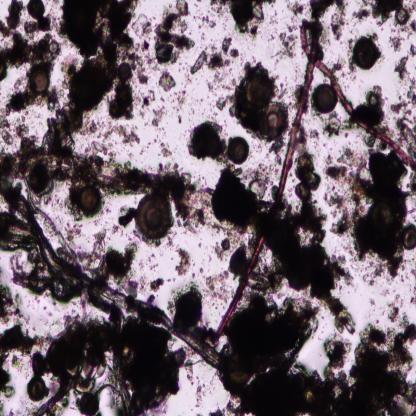Background material: (229, 291, 416, 416), (0, 143, 245, 236), (45, 0, 143, 151), (276, 198, 357, 334), (112, 314, 188, 416), (354, 149, 410, 276), (49, 312, 112, 393), (214, 164, 268, 233), (0, 32, 60, 82), (10, 251, 69, 301), (93, 238, 142, 294), (154, 0, 194, 68), (265, 0, 304, 65), (322, 166, 356, 237), (78, 120, 142, 157), (389, 77, 416, 158), (186, 115, 232, 162), (294, 124, 321, 204), (0, 329, 51, 368), (247, 249, 287, 298), (244, 144, 282, 194), (234, 79, 263, 139), (172, 282, 205, 334), (230, 0, 275, 36), (354, 84, 387, 126), (0, 285, 31, 329), (327, 251, 357, 291), (6, 87, 51, 113), (108, 82, 138, 121), (362, 0, 404, 27), (138, 87, 166, 127), (142, 248, 166, 293), (195, 0, 230, 30), (204, 273, 234, 306), (308, 0, 349, 23), (324, 331, 350, 367), (386, 292, 408, 330), (205, 68, 236, 94), (15, 115, 38, 150), (125, 52, 149, 85), (336, 141, 364, 168), (328, 7, 348, 42), (388, 24, 413, 52), (0, 109, 18, 147), (4, 0, 26, 31), (192, 376, 212, 410), (130, 14, 155, 41), (23, 12, 51, 36), (362, 257, 384, 287), (62, 219, 84, 249), (314, 20, 330, 60), (44, 12, 68, 38), (58, 52, 77, 84), (0, 400, 37, 416), (174, 243, 191, 277), (322, 112, 344, 136), (116, 204, 136, 228), (12, 355, 32, 378), (393, 52, 408, 82), (0, 369, 16, 397), (91, 226, 109, 250), (214, 236, 232, 260), (170, 87, 188, 111), (349, 5, 371, 24), (340, 235, 356, 260), (158, 70, 176, 92), (184, 357, 198, 385), (203, 51, 226, 68), (178, 61, 192, 88), (347, 37, 356, 73), (408, 266, 416, 306), (216, 92, 236, 108), (357, 132, 376, 147), (12, 75, 30, 90), (378, 124, 396, 139), (195, 326, 215, 339), (132, 40, 150, 54), (246, 56, 265, 69), (290, 83, 303, 100), (0, 20, 14, 35), (222, 35, 232, 56), (157, 142, 171, 157), (331, 55, 343, 72), (146, 57, 160, 71), (407, 176, 416, 197), (339, 117, 352, 131), (400, 265, 410, 283), (209, 405, 225, 416), (294, 66, 304, 82), (376, 139, 388, 152), (309, 128, 320, 142), (158, 163, 179, 170), (324, 154, 336, 166), (110, 223, 122, 235), (227, 48, 239, 59), (405, 0, 416, 12), (166, 235, 174, 251), (378, 287, 392, 296), (288, 114, 295, 132), (70, 298, 81, 309), (240, 48, 246, 68), (47, 320, 62, 328), (409, 42, 416, 58), (180, 169, 191, 179), (224, 57, 234, 67), (384, 273, 392, 285), (273, 87, 280, 100), (43, 289, 52, 299), (157, 127, 167, 136), (410, 18, 416, 32), (314, 142, 320, 156), (105, 204, 112, 216), (370, 33, 379, 42), (209, 44, 219, 52), (93, 218, 103, 226), (370, 296, 376, 308), (404, 258, 416, 264), (199, 31, 205, 43), (288, 186, 294, 198), (192, 96, 200, 104), (284, 75, 289, 87), (34, 294, 40, 304), (272, 75, 278, 85), (207, 253, 213, 263), (288, 103, 295, 111), (175, 220, 183, 227), (178, 114, 183, 124), (295, 100, 300, 110), (350, 74, 356, 82), (230, 108, 235, 117), (274, 58, 278, 69), (343, 86, 350, 92), (23, 110, 30, 116), (42, 305, 48, 311), (322, 142, 328, 148), (140, 149, 145, 156), (302, 118, 306, 126), (208, 102, 214, 107), (340, 72, 345, 78), (383, 96, 389, 101), (190, 109, 195, 115), (52, 300, 57, 306), (198, 268, 204, 273), (328, 147, 334, 152), (166, 278, 171, 283), (205, 45, 209, 51), (198, 242, 202, 248), (346, 132, 350, 138), (214, 112, 220, 116), (196, 413, 203, 416), (292, 178, 296, 183), (346, 71, 350, 76), (32, 326, 36, 331), (368, 313, 372, 318), (279, 84, 284, 88), (288, 172, 292, 177), (382, 309, 385, 315), (192, 272, 195, 278), (173, 278, 176, 284), (210, 107, 213, 113), (192, 262, 196, 266), (154, 139, 158, 143), (121, 229, 123, 236), (376, 320, 379, 324), (148, 142, 151, 146), (200, 99, 203, 103), (195, 76, 198, 80), (270, 4, 274, 7), (372, 309, 376, 312), (381, 27, 383, 32), (208, 114, 210, 119), (414, 65, 416, 70), (202, 112, 204, 117), (170, 257, 173, 260), (288, 95, 290, 99), (207, 96, 210, 98), (147, 146, 149, 149)
Cellulose filter fibre: (0, 180, 225, 368), (24, 182, 79, 266), (35, 373, 73, 416)
Diatom: (135, 194, 173, 240), (241, 68, 274, 106), (350, 35, 382, 73), (262, 100, 288, 143), (0, 222, 36, 252), (226, 350, 252, 388), (77, 184, 104, 218), (311, 83, 339, 114), (227, 134, 250, 166), (26, 376, 47, 401), (30, 69, 50, 93), (400, 221, 416, 250), (80, 392, 100, 415), (191, 49, 205, 74), (28, 0, 45, 19), (118, 61, 132, 82), (395, 7, 410, 25), (369, 93, 379, 107), (49, 41, 58, 53), (279, 88, 287, 100)
Microfibre: (214, 19, 416, 342)
